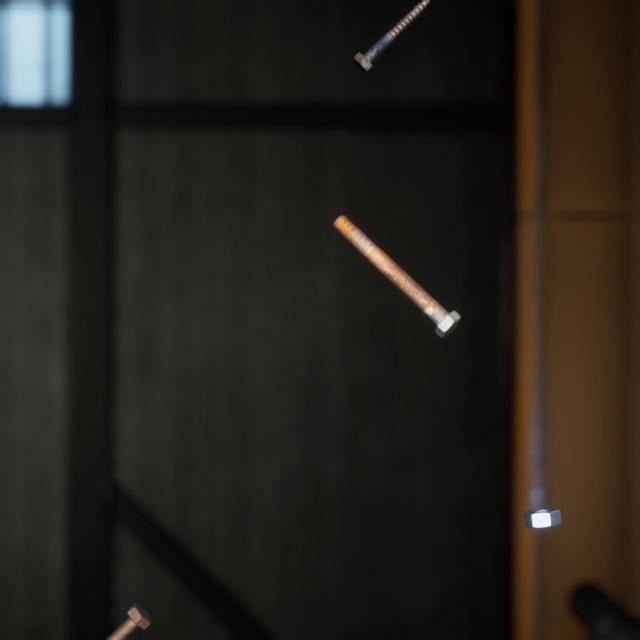bolt: (328, 195, 465, 326), (348, 0, 430, 70), (76, 574, 156, 640)
nut: (520, 482, 566, 510)
